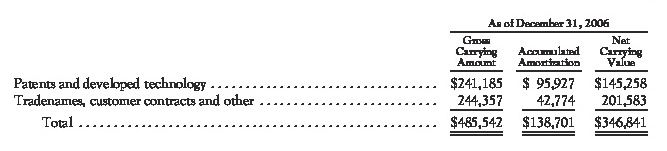table: (0, 0, 667, 151)
